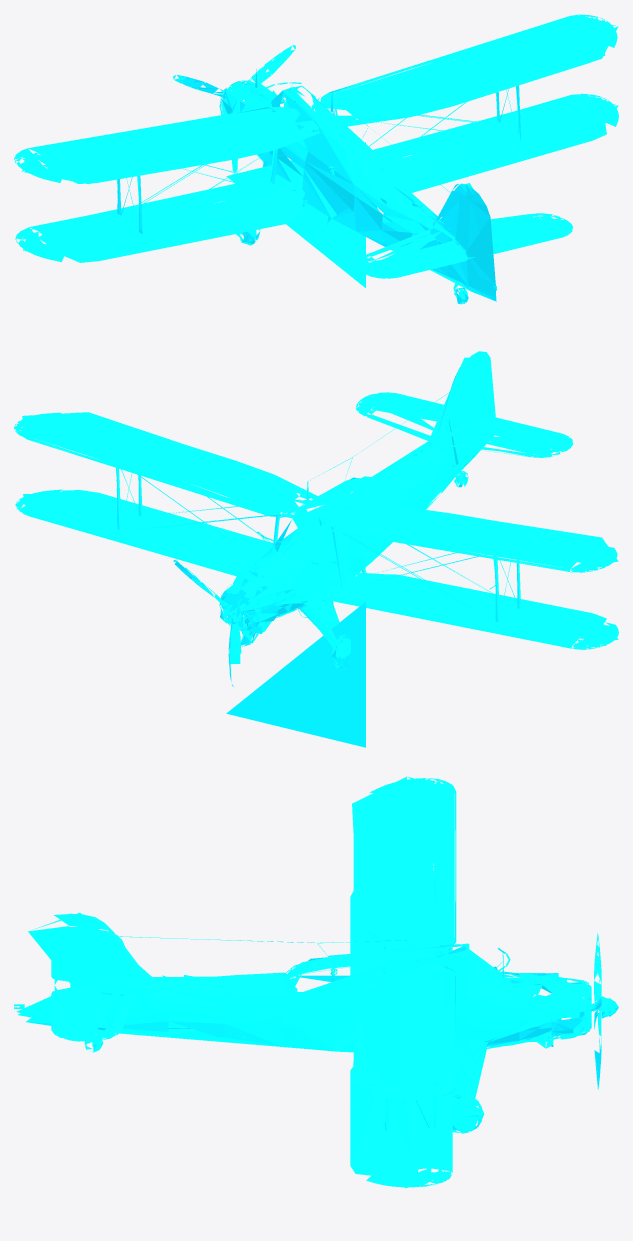
The model's file is PBAB004.glb.
3 renders of one model, top to bottom at view 1: azimuth 30°, elevation 25°; view 2: azimuth 150°, elevation 25°; view 3: azimuth 270°, elevation 25°, orthographic. The views are drawn at different scales.
Visible parts, largest first — view 1: misc; view 2: misc; view 3: misc.
Part boxes in pixels (left/top/right/bottom): misc: left=14, top=14, right=618, bottom=304; misc: left=14, top=351, right=618, bottom=747; misc: left=14, top=776, right=618, bottom=1187.
Bounding box in the file's own units: 1.03 × 0.4059 × 0.8083.
